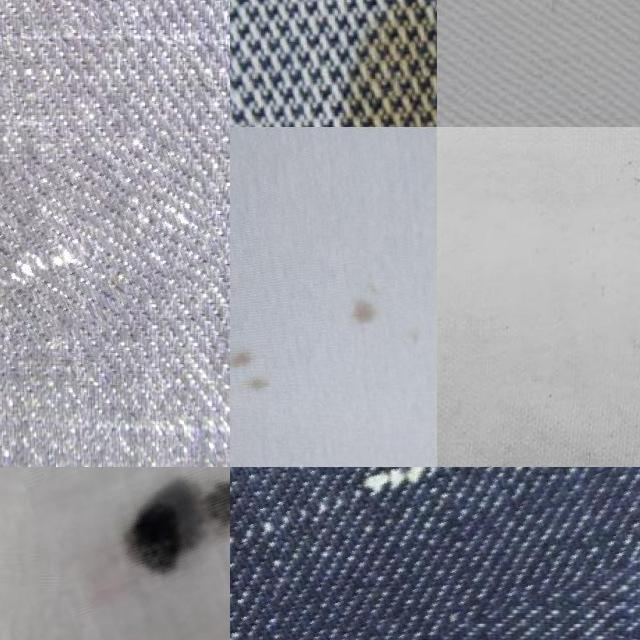Hole: (37, 467, 230, 640), (322, 253, 436, 413), (322, 0, 436, 127), (230, 312, 298, 445)
Thread_other: (230, 467, 640, 640), (0, 146, 219, 365)
